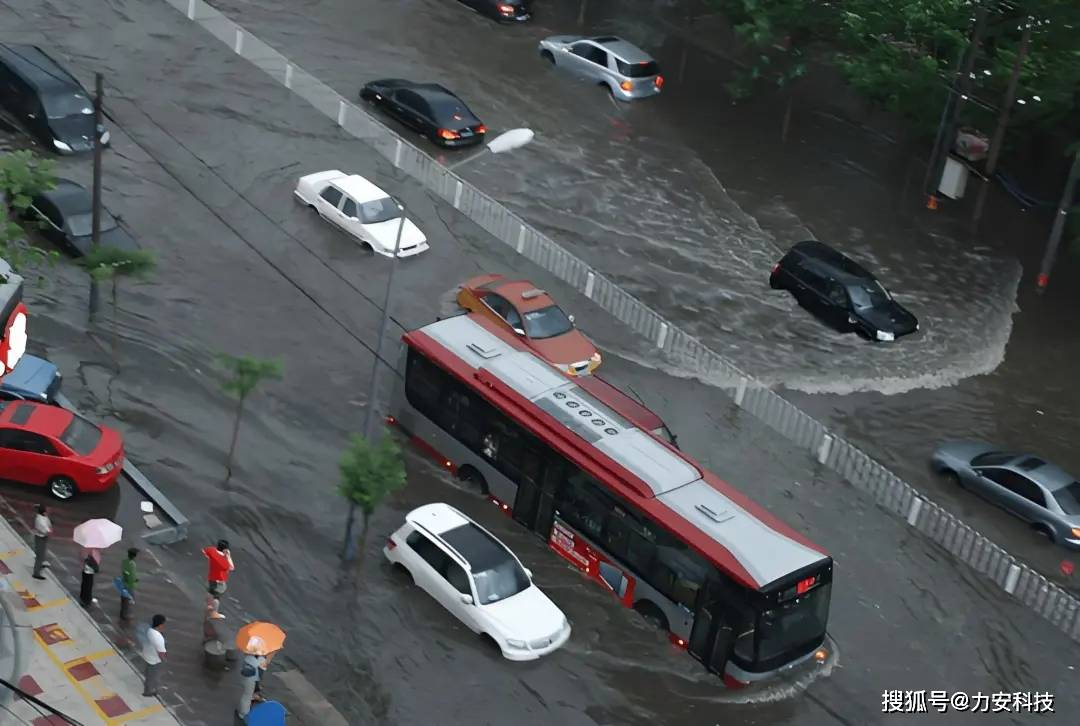puddle: (529, 101, 1003, 418), (102, 117, 418, 584)
